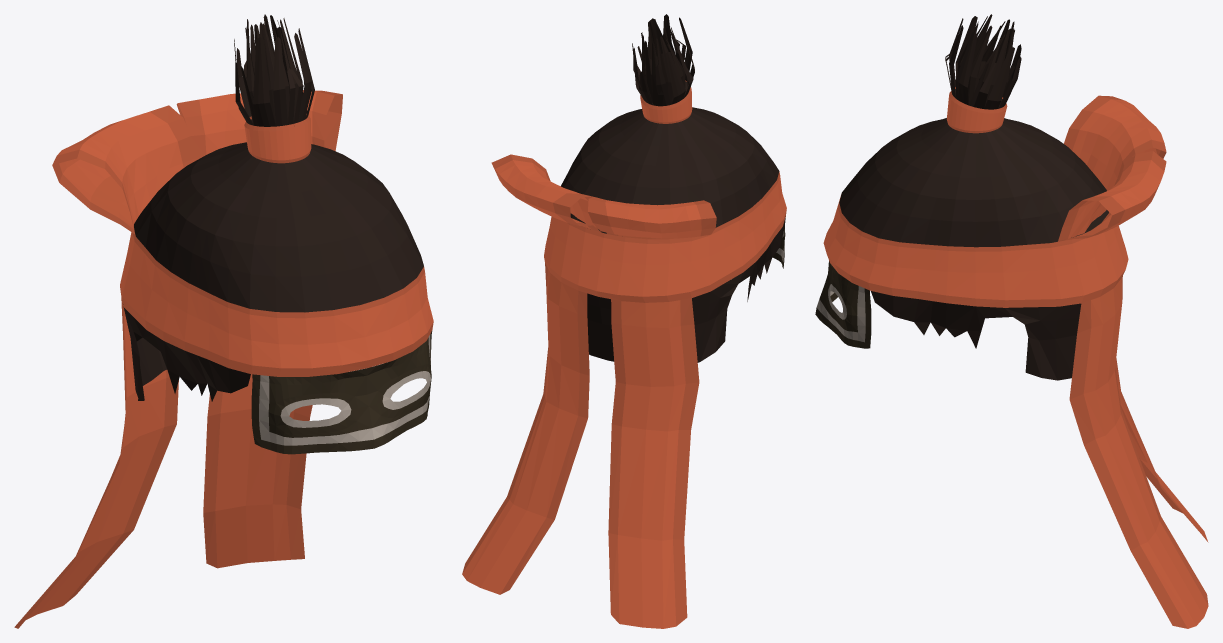
The model's file is aztecExecutionerMask.glb.
3 views of the same model, side by side, from view 1: azimuth 30°, elevation 25°; view 2: azimuth 150°, elevation 25°; view 3: azimuth 270°, elevation 25° (orthographic). The views are drawn at different scales.
Visible parts, largest first — view 1: aztecExecutionerMask; view 2: aztecExecutionerMask; view 3: aztecExecutionerMask.
Boxes of the visible parts, x1,y1,x2,y2 form: aztecExecutionerMask: (14,14,433,628); aztecExecutionerMask: (462,14,786,628); aztecExecutionerMask: (815,14,1208,628).
Bounding box in the file's own units: 0.2987 × 0.6498 × 0.4169.
